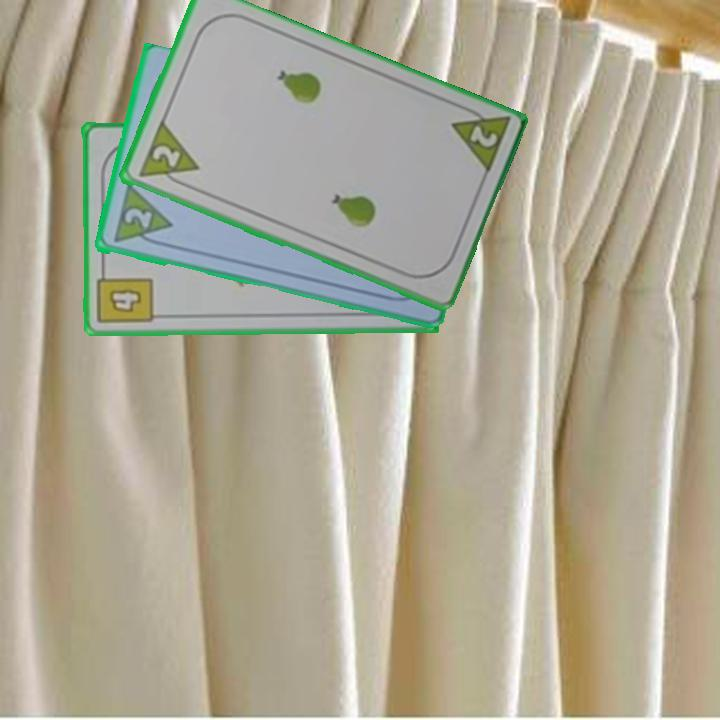2p: (134, 119, 201, 192), (109, 183, 174, 251), (465, 122, 500, 151)
4b: (94, 263, 156, 327)
